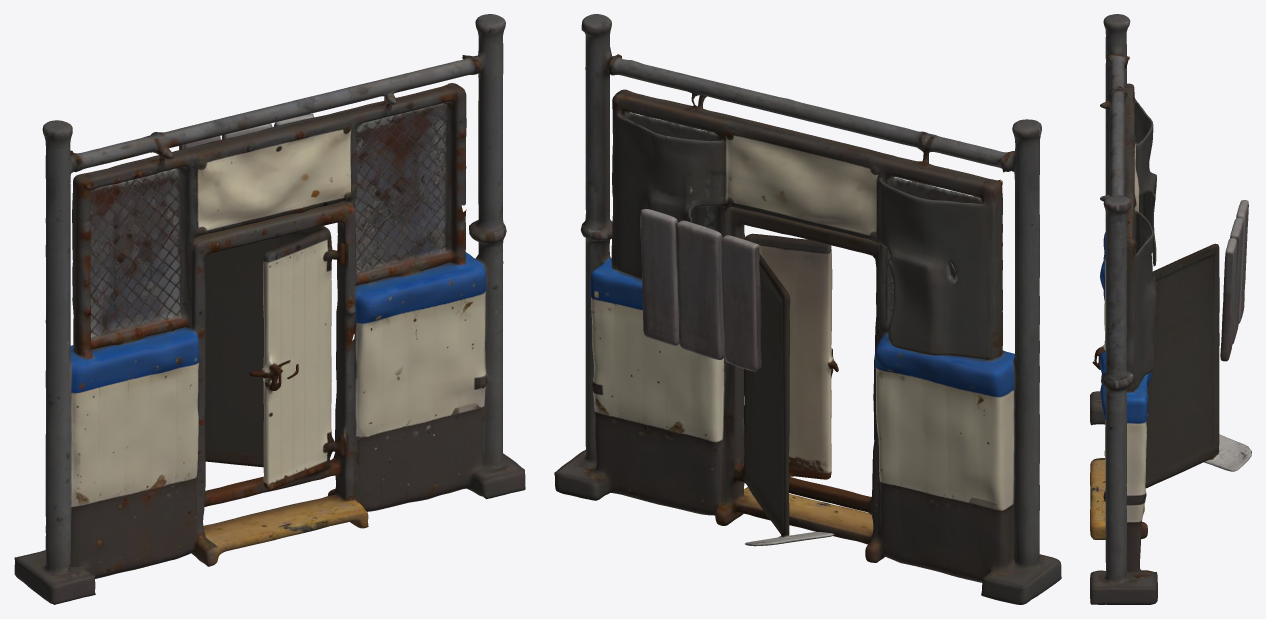
File: g67_court_gate.glb
3 views of the same model, side by side, from view 1: azimuth 30°, elevation 25°; view 2: azimuth 150°, elevation 25°; view 3: azimuth 270°, elevation 25° (orthographic). The views are drawn at different scales.
Visible parts, largest first — view 1: tripo_node_be5f1f35; view 2: tripo_node_be5f1f35; view 3: tripo_node_be5f1f35.
Part boxes in pixels (bbox=[...]): tripo_node_be5f1f35: bbox=[14, 14, 525, 604]; tripo_node_be5f1f35: bbox=[554, 14, 1061, 604]; tripo_node_be5f1f35: bbox=[1090, 14, 1251, 604].
Size of the model in its own units: 97.81 by 91.53 by 33.74.
Materials: 1 (1 with a texture image).
